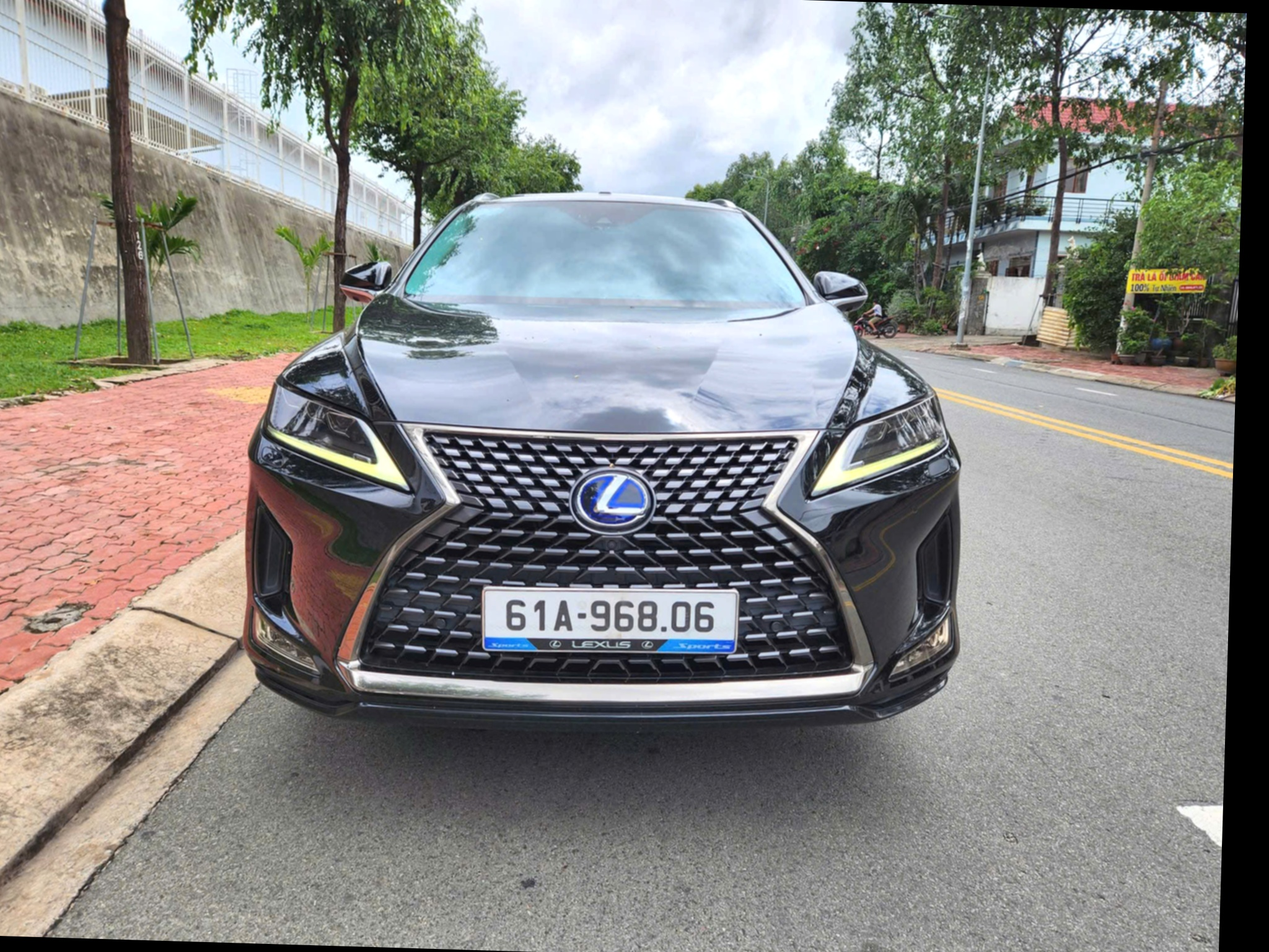Bien-so: (496, 572, 760, 636)
